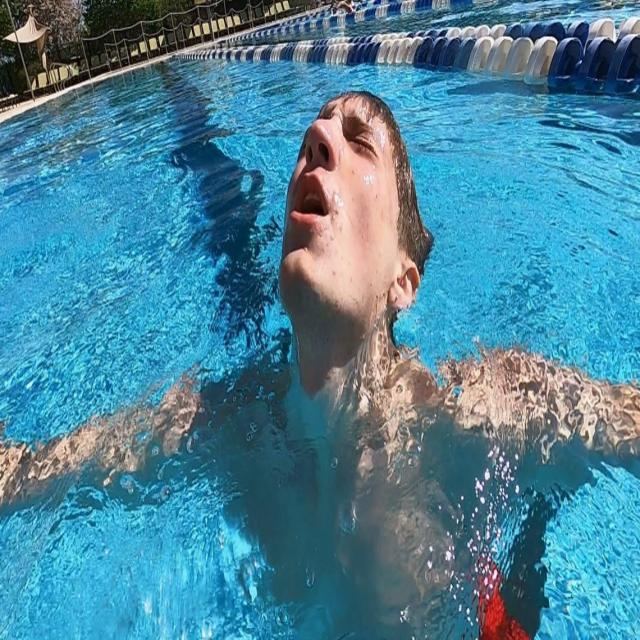Out of Water: (208, 82, 474, 453)
